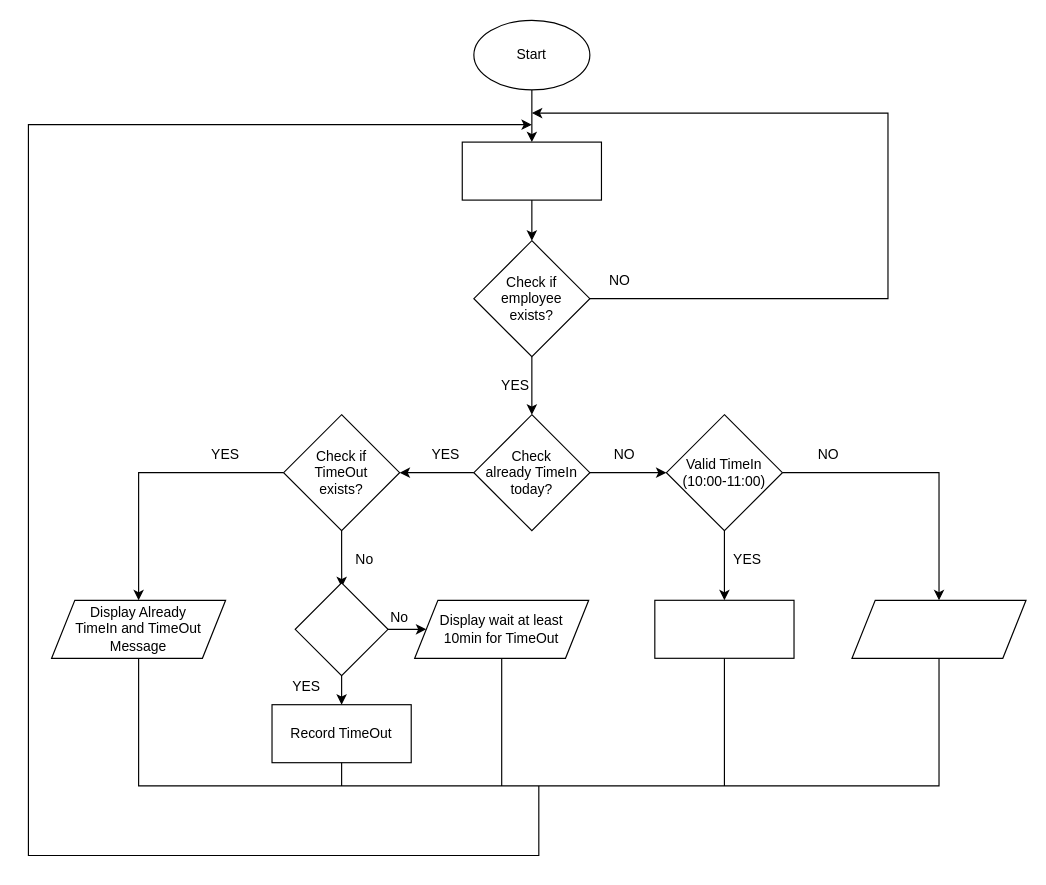
Some shapes in this 1046 by 885 pixel diagram are drawn without their labels. The box of each missing label's shape, as (x1, y1, x2, y2) in pixels:
Display Invalid TimeIn: (851, 599, 1026, 658)
Record TimeIn: (654, 599, 794, 658)
Scan RFID Card: (461, 141, 601, 200)
Valid TimeOut?: (294, 582, 388, 676)
